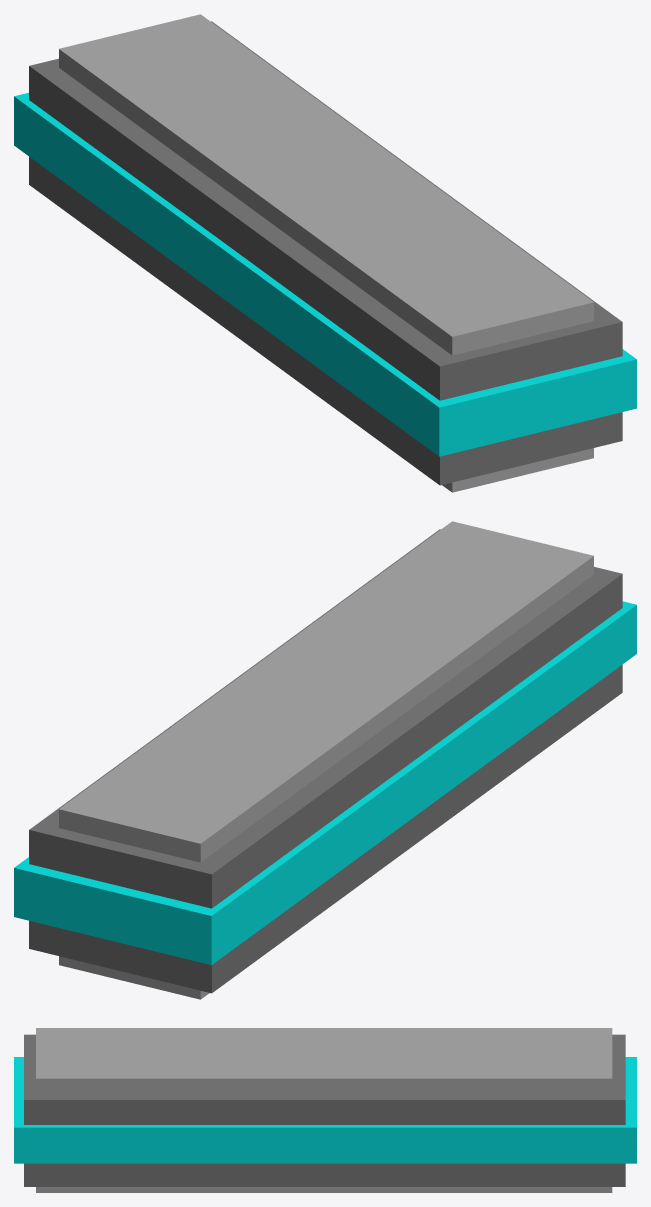
Rendered from frame_unit.fbx.
3 renders of one model, top to bottom at view 1: azimuth 30°, elevation 25°; view 2: azimuth 150°, elevation 25°; view 3: azimuth 270°, elevation 25°, orthographic. The views are drawn at different scales.
Parts seen in each view (by area): view 1: frame_unit; view 2: frame_unit; view 3: frame_unit.
Part boxes in pixels (box(x1,y1,x2,y2)): frame_unit: box(14, 14, 636, 492); frame_unit: box(14, 521, 636, 999); frame_unit: box(14, 1028, 636, 1192).
Size of the model in its own units: 0.2527 by 0.1904 by 0.9416.
